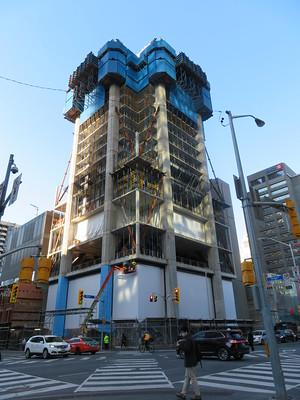building: (56, 34, 236, 360)
